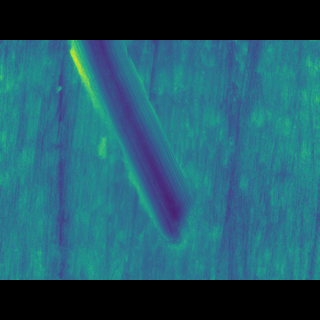Loch: (62, 70, 200, 227)
